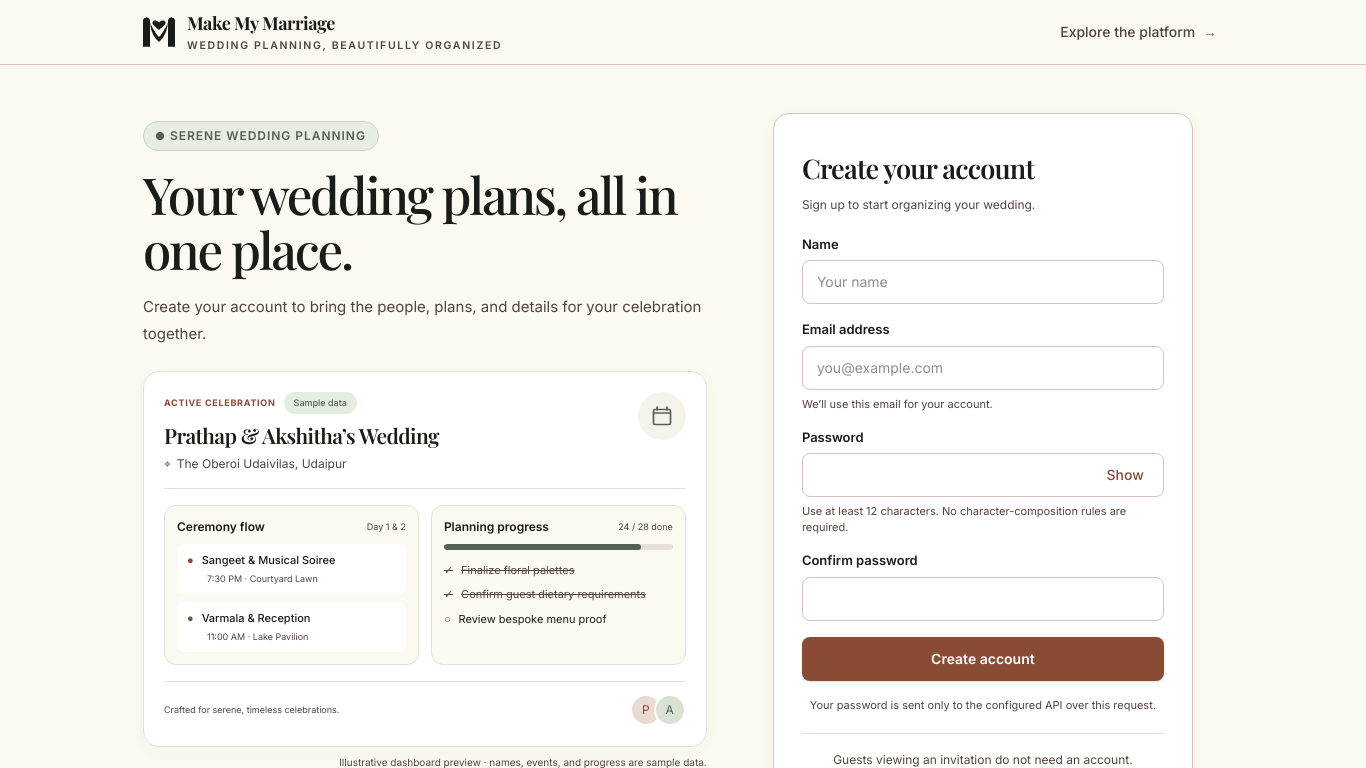
Scenario: SignupPage › shows an error when passwords do not match
Step 1. Type "Aisha Rao" into the field labelled "Name" → (983, 282), box x1=802 y1=260 x2=1164 y2=304
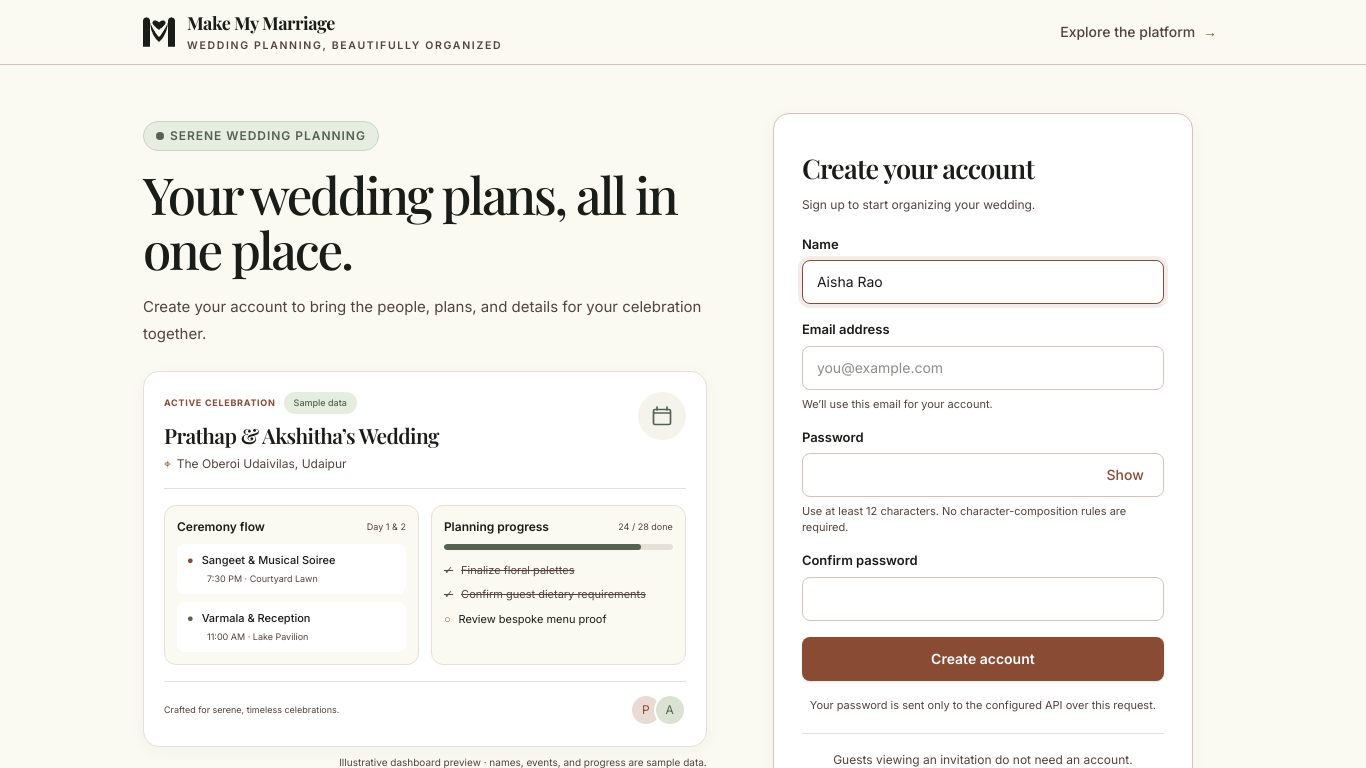
Step 2. Type "aisha@example.com" into the field labelled "Email address" → (983, 368), box x1=802 y1=346 x2=1164 y2=390
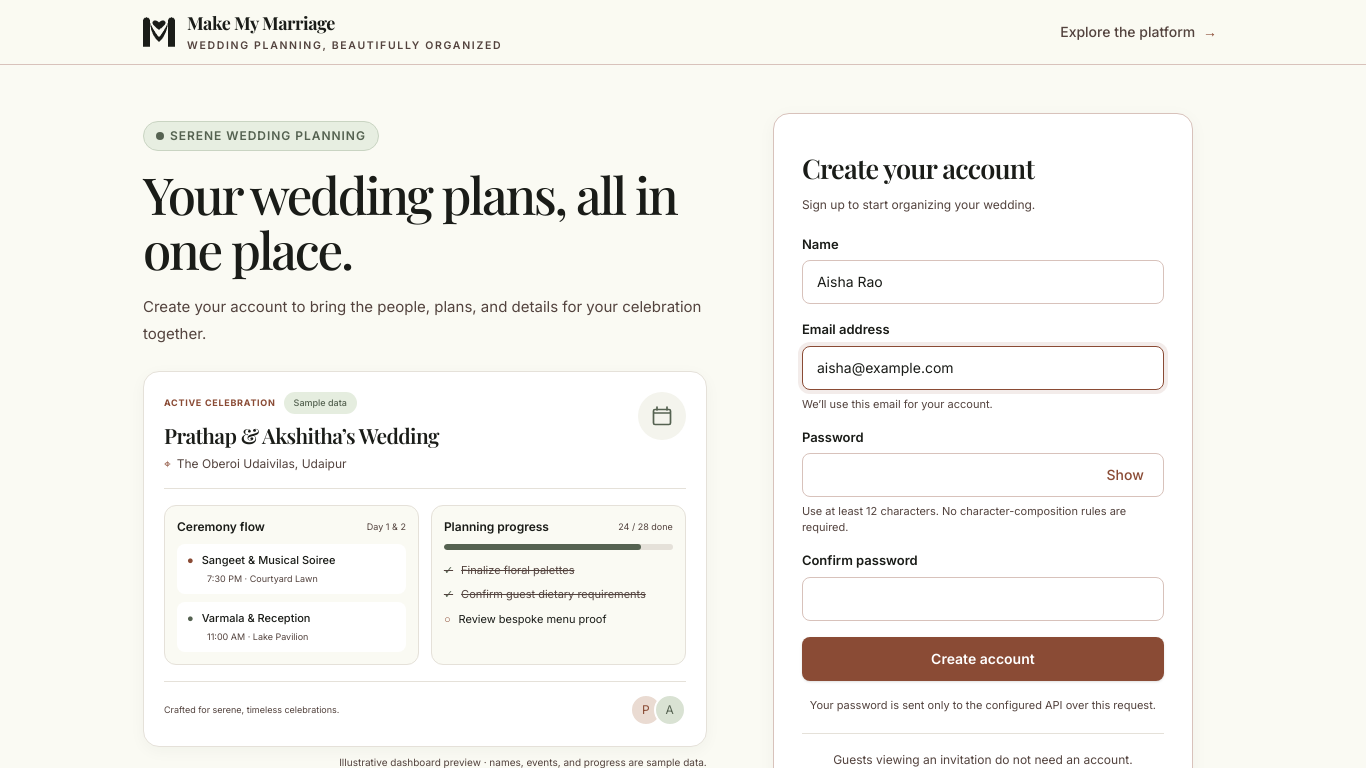
Step 3. Type "example-password" into the password field labelled "Password" → (983, 475), box x1=802 y1=453 x2=1164 y2=497
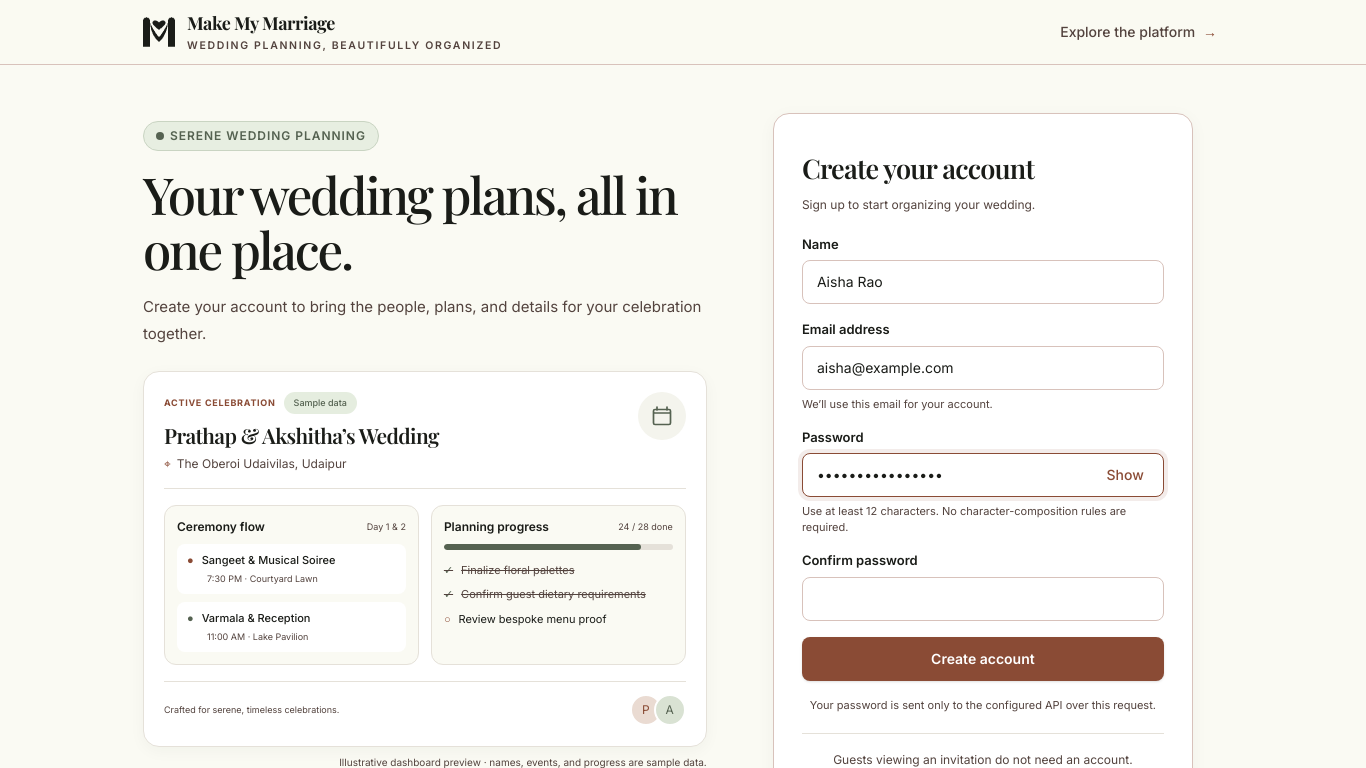
Step 4. Type "different-password" into the password field labelled "Confirm password" → (983, 598), box x1=802 y1=576 x2=1164 y2=620
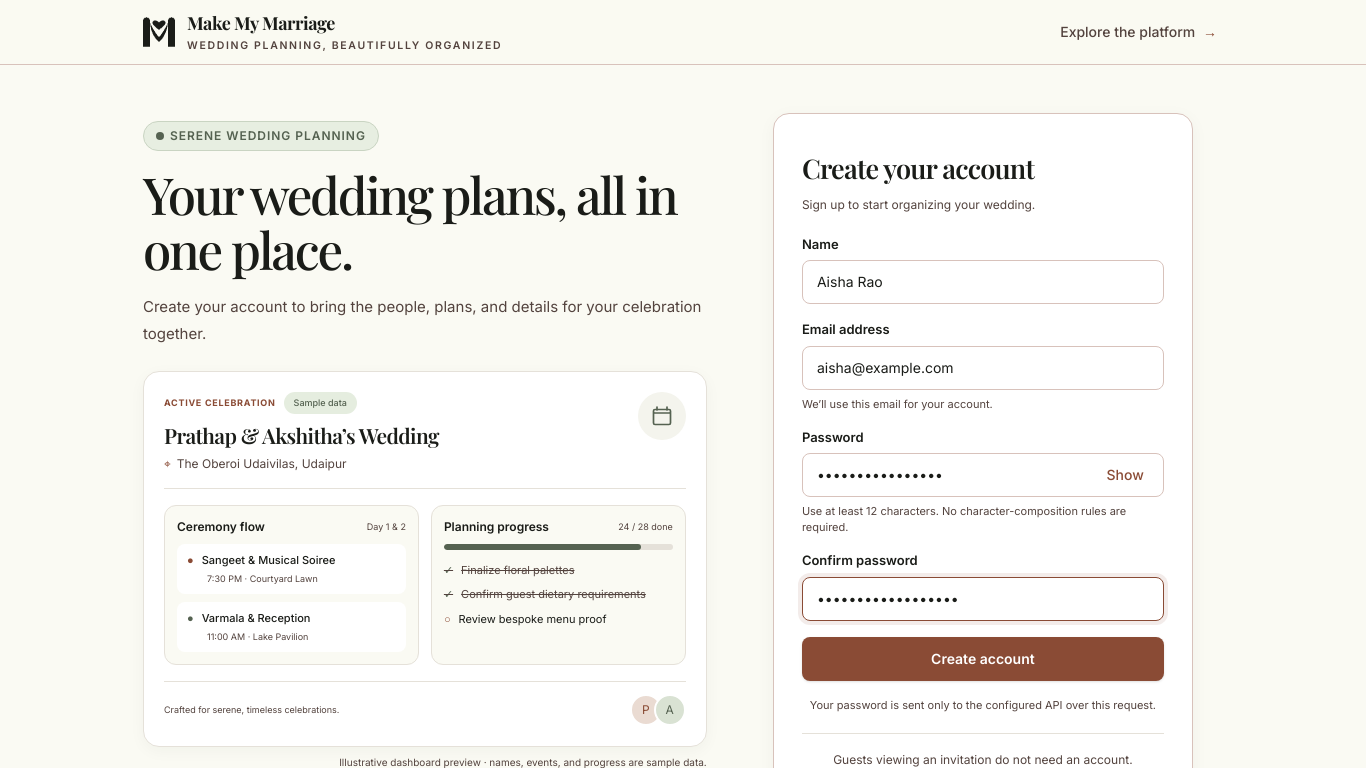
Step 5. Click the button "Create account" → (983, 658), box x1=802 y1=636 x2=1164 y2=680
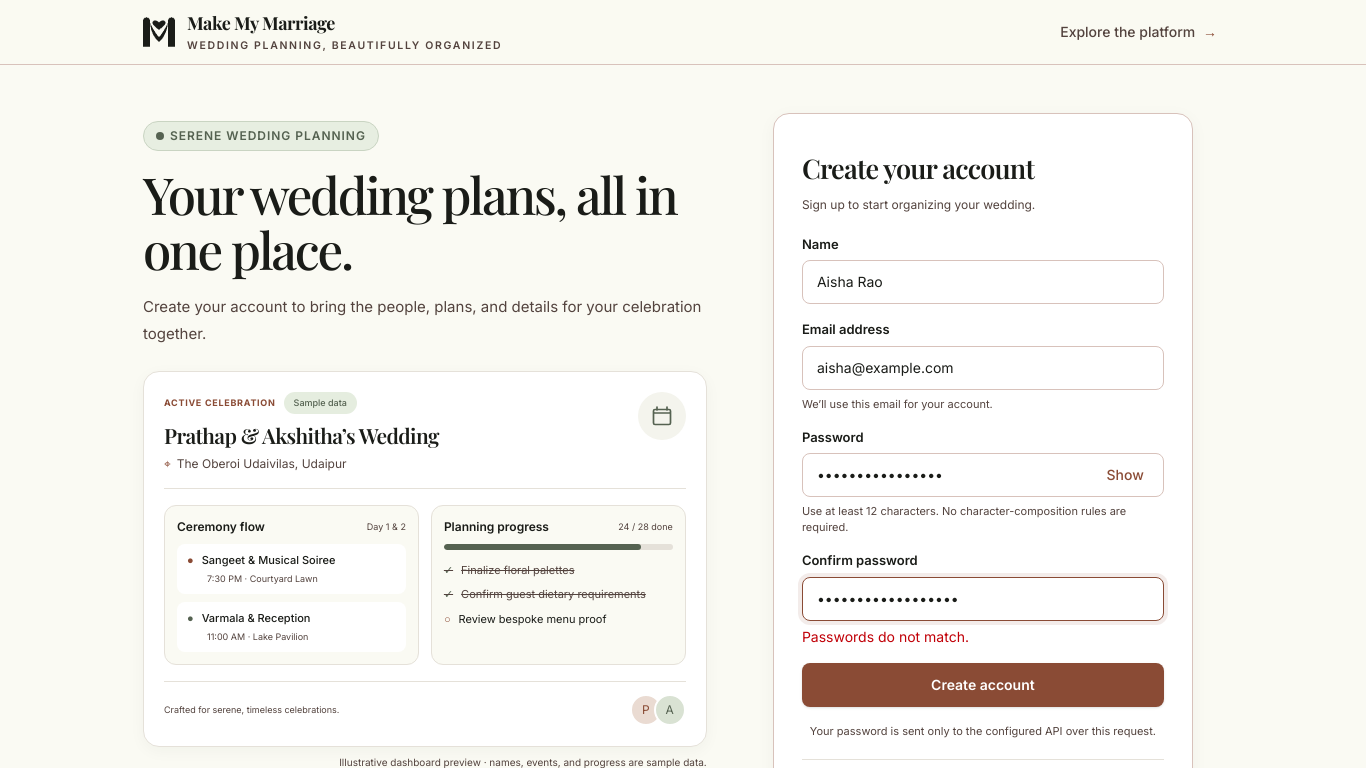
Now the text "Passwords do not match." is shown, box x1=802 y1=628 x2=969 y2=644
